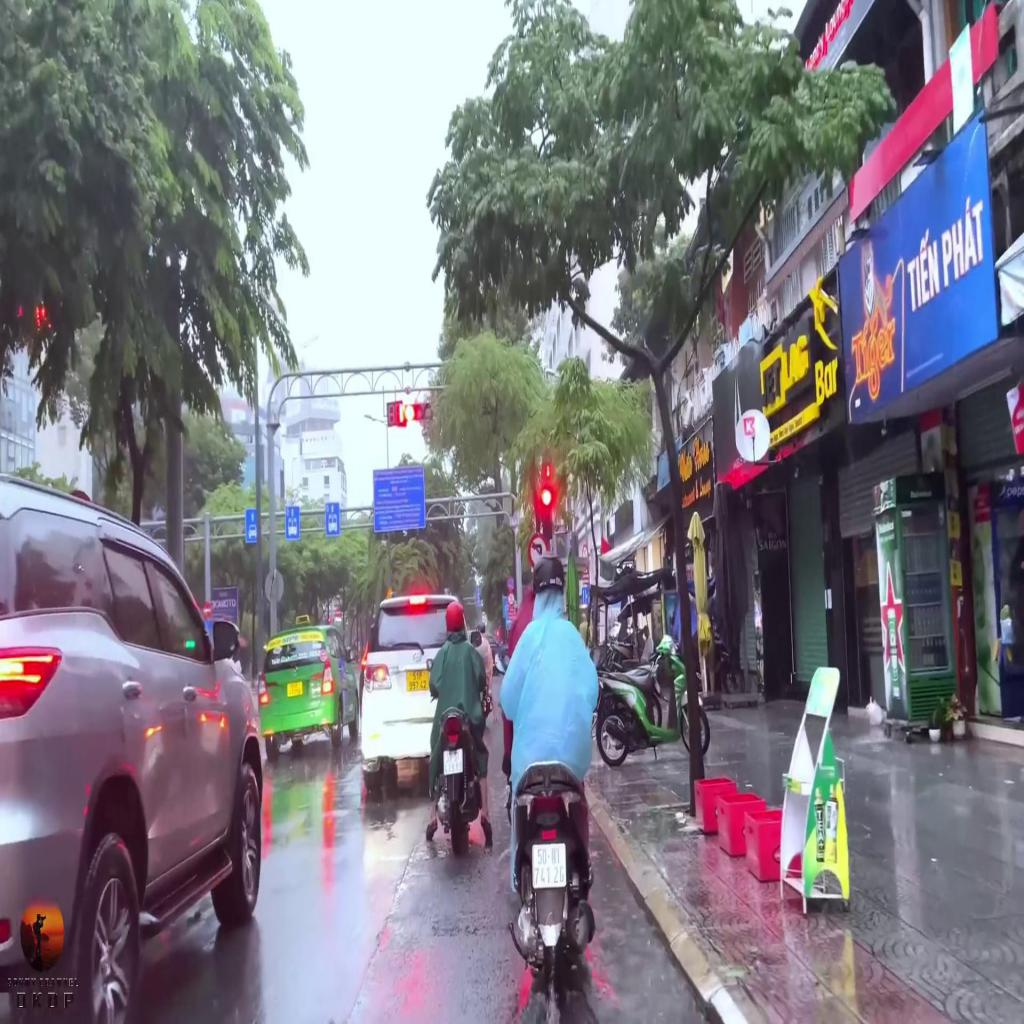cam_re_trai: (526, 529, 552, 569)
duong_cho_xe_o_to: (245, 508, 258, 542)
khac: (372, 464, 426, 534), (325, 502, 340, 536), (285, 506, 299, 542)
